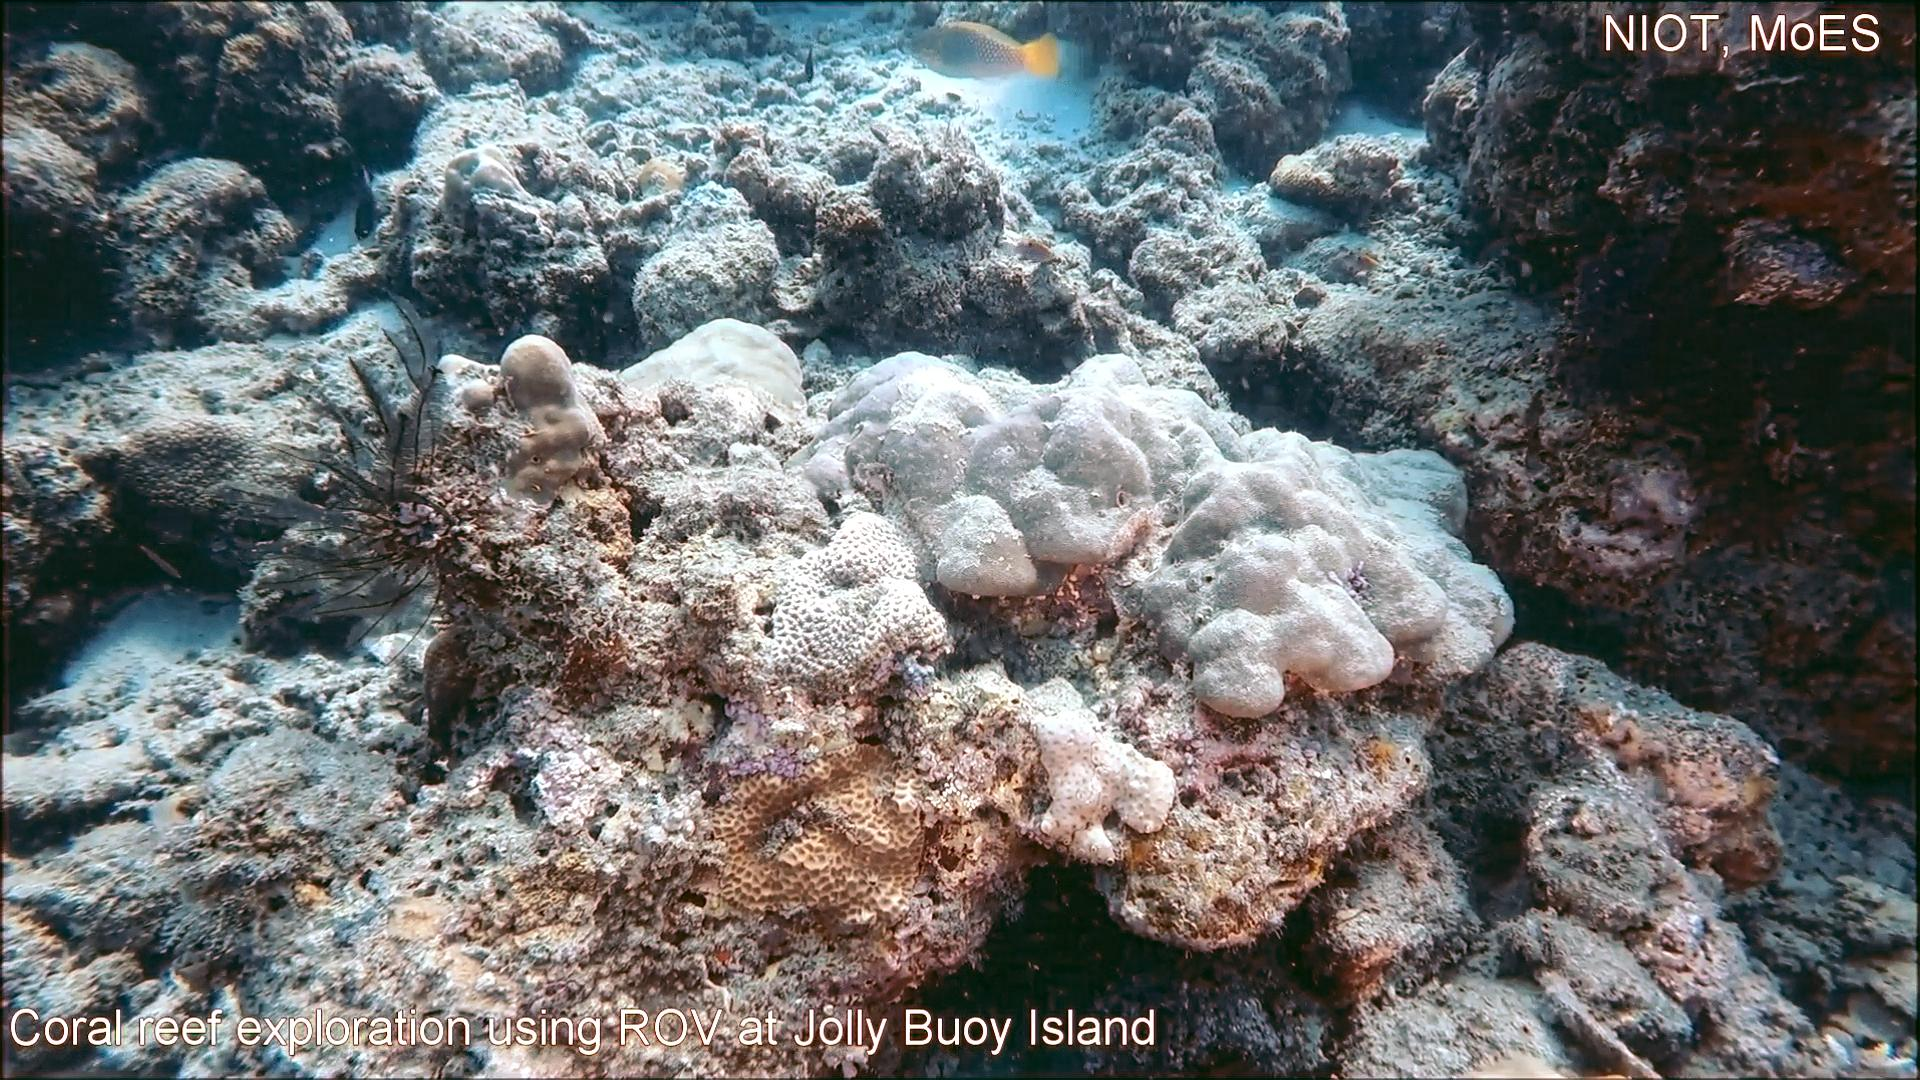Feather star-Crinoid star: (208, 281, 471, 673)
Goniastrea-Goniastrea pectinata: (767, 509, 959, 696)
Porites-Porites pukoensis: (1040, 351, 1523, 725)
Turbinaria-Turbinaria stellulata: (112, 413, 282, 529)
